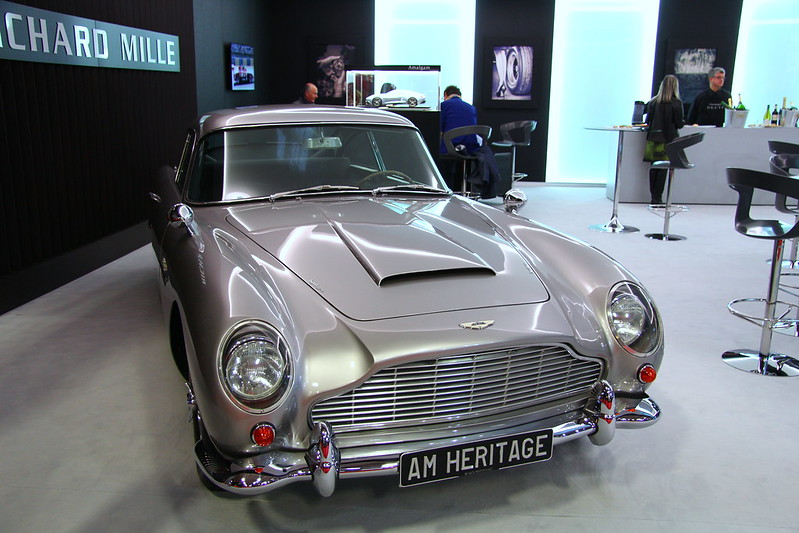car: (143, 101, 671, 496)
